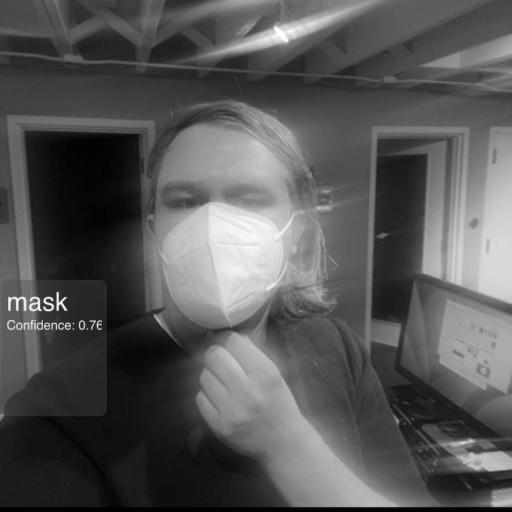mask: (132, 92, 314, 344)
